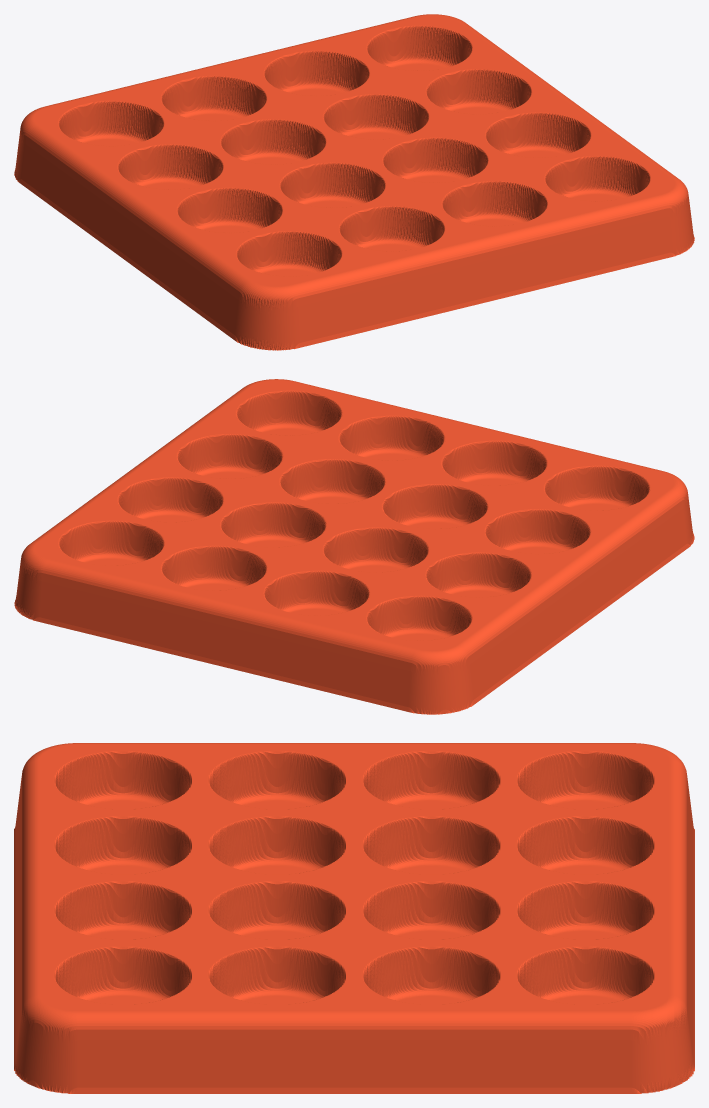
Rendered from mold.glb.
3 views of the same model, one above another, from view 1: azimuth 30°, elevation 25°; view 2: azimuth 150°, elevation 25°; view 3: azimuth 270°, elevation 25° (orthographic). The views are drawn at different scales.
Parts seen in each view (by area): view 1: geometry_0; view 2: geometry_0; view 3: geometry_0.
Part boxes in pixels (<box>): geometry_0: <box>14,14,694,350</box>; geometry_0: <box>14,379,694,714</box>; geometry_0: <box>14,743,694,1093</box>.
Size of the model in its own units: 0.0972 by 0.0114 by 0.0972.
